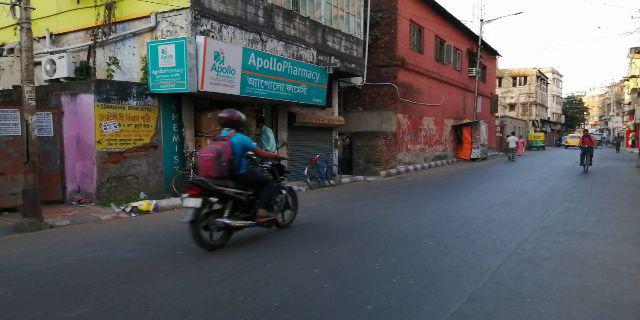Autorickshaw: (524, 130, 550, 154)
Cycle: (303, 152, 345, 190), (572, 127, 597, 177)
Motorbike: (177, 108, 304, 253)
